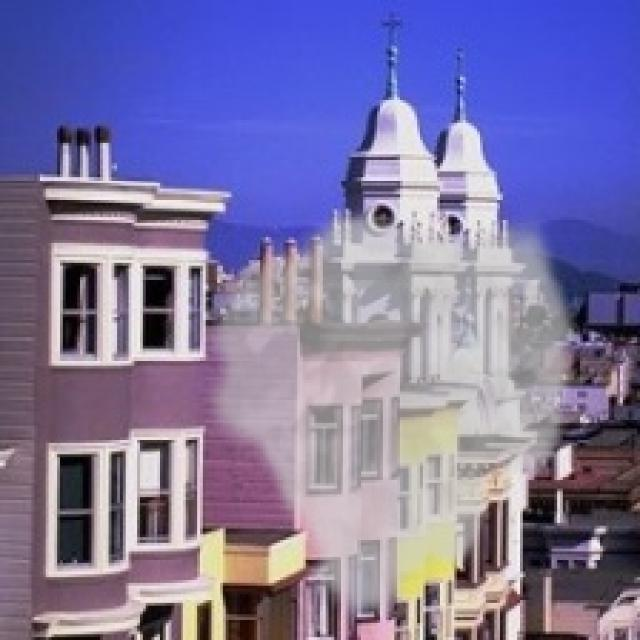Smoke: (197, 205, 583, 626)
